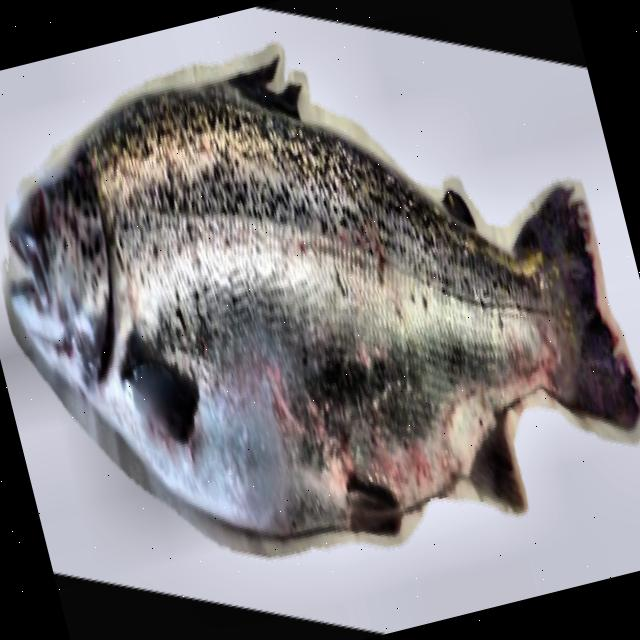mild_red: (85, 81, 574, 535)
